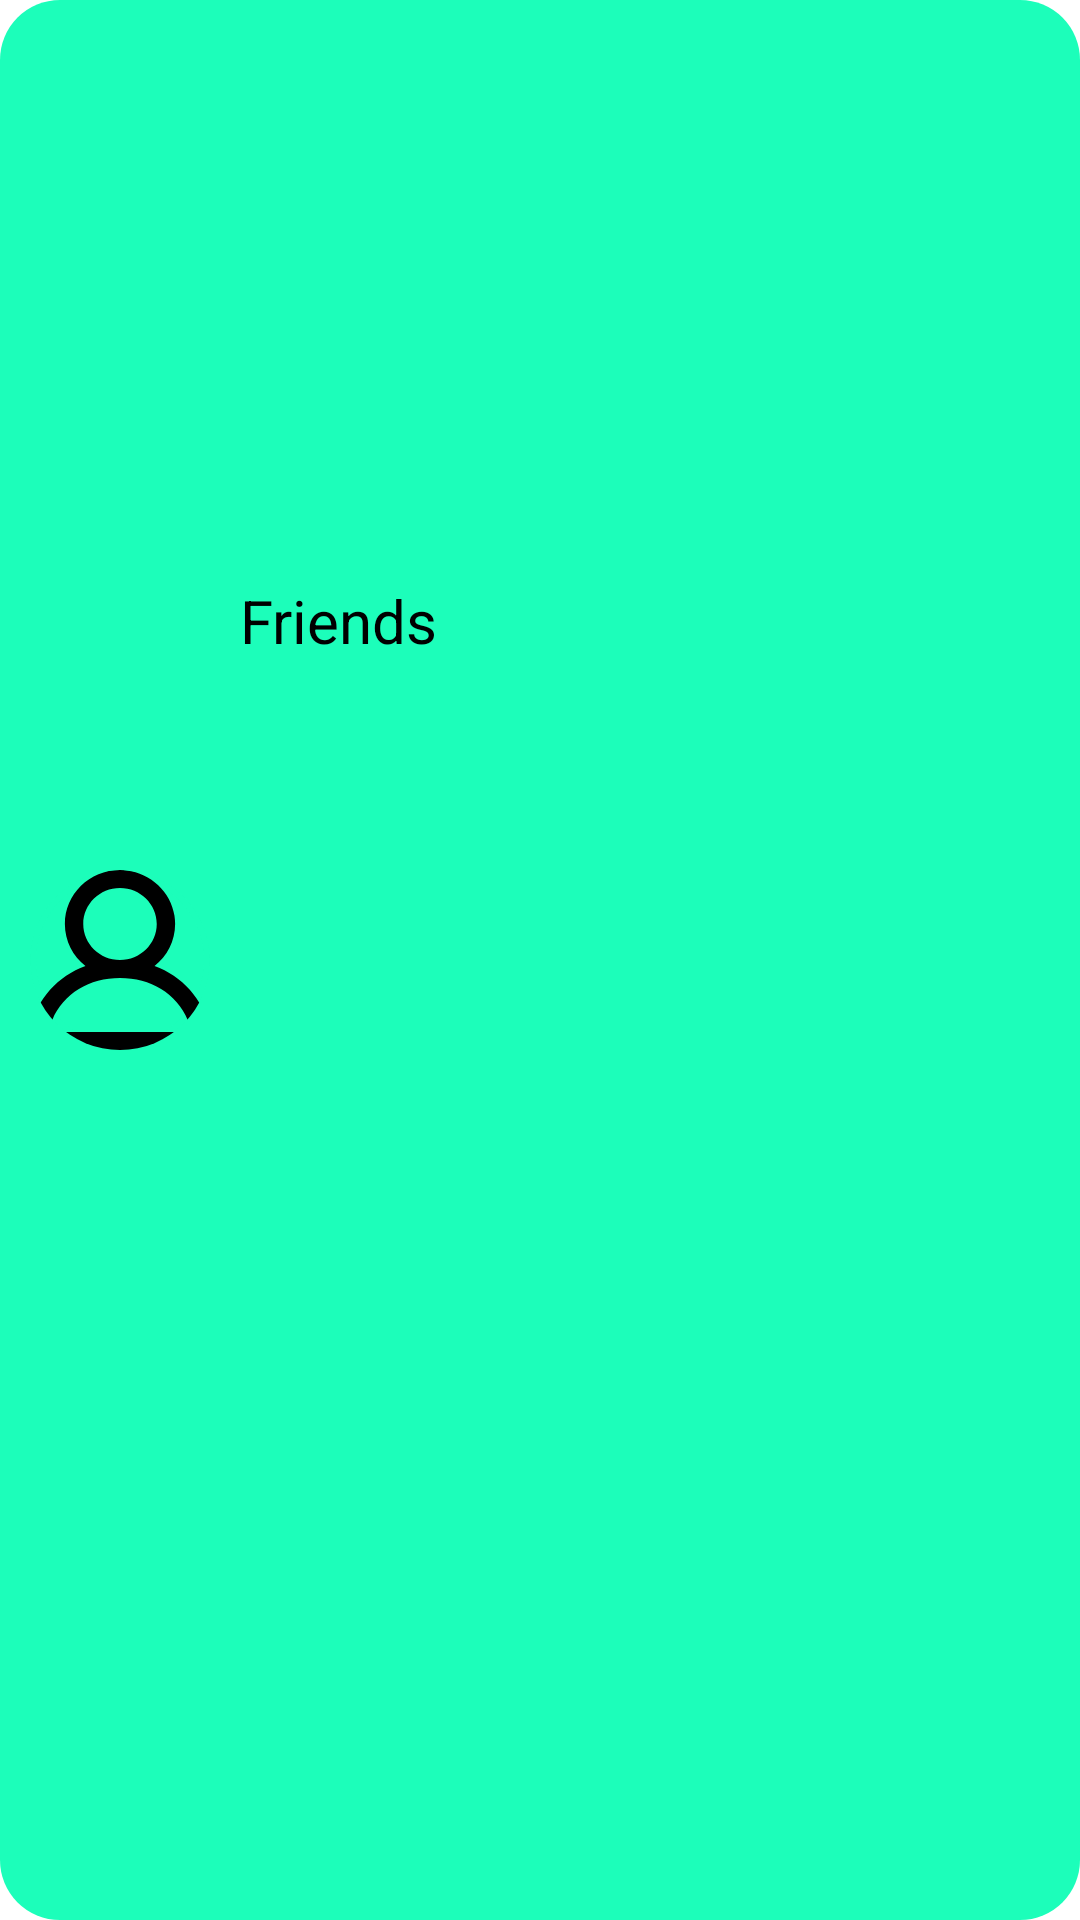

Where to tap for icons on this 1080w x 1920h app screen, as point (x, y):
profile: point (119, 960)
